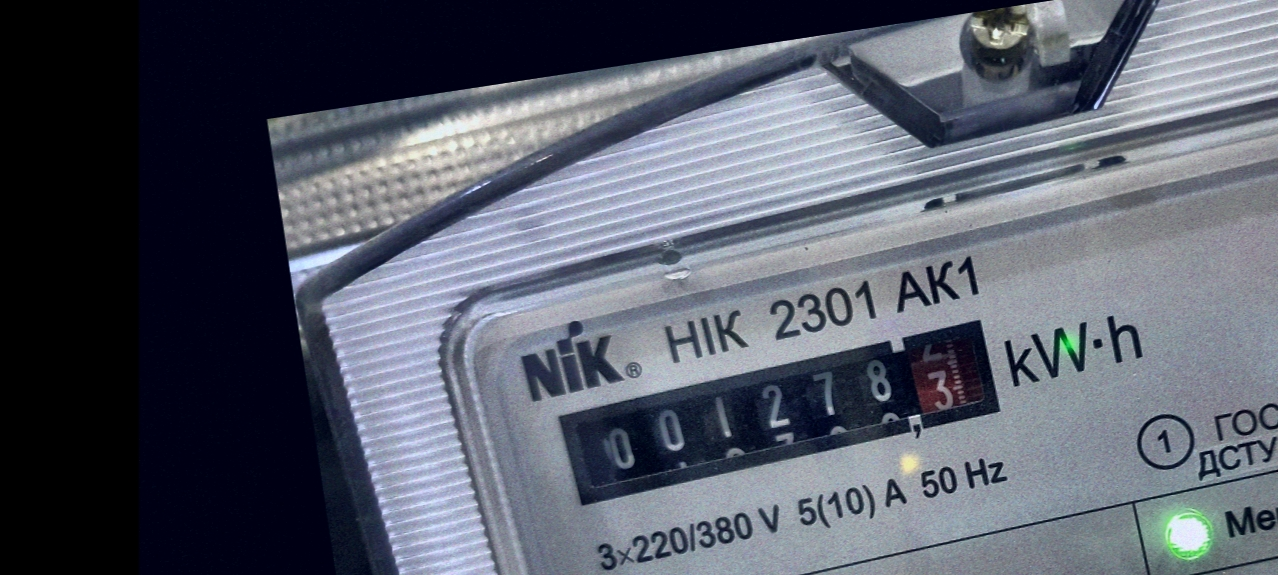0: (605, 421, 638, 473), (654, 405, 687, 455)
1: (710, 391, 735, 440)
2: (759, 381, 792, 431), (918, 340, 944, 363)
3: (924, 366, 957, 413)
7: (810, 369, 839, 418)
8: (864, 356, 894, 404)
screen: (538, 304, 1023, 521)
